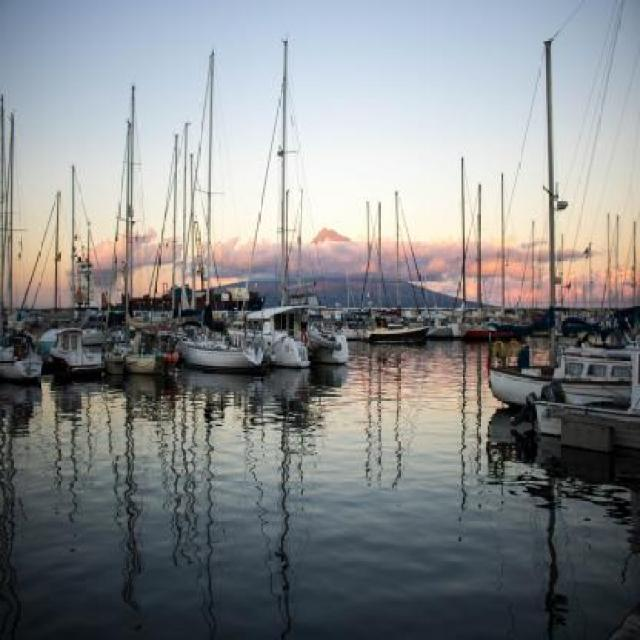ship: (488, 0, 637, 451), (240, 38, 349, 362), (174, 50, 269, 372), (102, 85, 178, 372), (458, 171, 534, 340), (0, 94, 43, 383), (365, 192, 432, 345), (48, 325, 106, 378)
